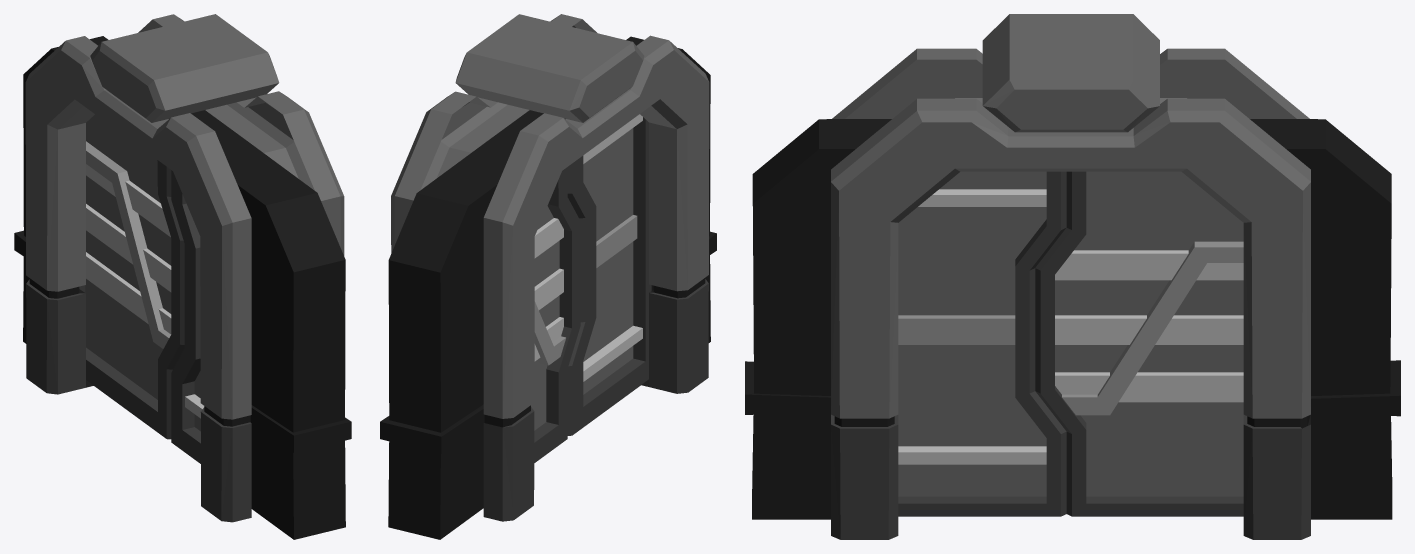
Rendered from door_A.FBX.
The picture shows the model from 3 angles, left to right: view 1: azimuth 30°, elevation 25°; view 2: azimuth 150°, elevation 25°; view 3: azimuth 270°, elevation 25°; orthographic projection. The views are drawn at different scales.
Visible parts, largest first — view 1: door_A_rim, door_A_lft, door_A_rgt; view 2: door_A_rim, door_A_rgt, door_A_lft; view 3: door_A_rim, door_A_lft, door_A_rgt.
Boxes of the visible parts, <box> form: door_A_rim: <box>14,14,351,539</box>; door_A_lft: <box>79,114,184,439</box>; door_A_rgt: <box>171,170,204,463</box>; door_A_rim: <box>380,14,716,539</box>; door_A_rgt: <box>567,114,651,435</box>; door_A_lft: <box>531,167,580,462</box>; door_A_rim: <box>745,14,1400,539</box>; door_A_lft: <box>1035,171,1243,516</box>; door_A_rgt: <box>898,171,1066,516</box>.
Bounding box in the file's own units: 48.77 × 148 × 192.
